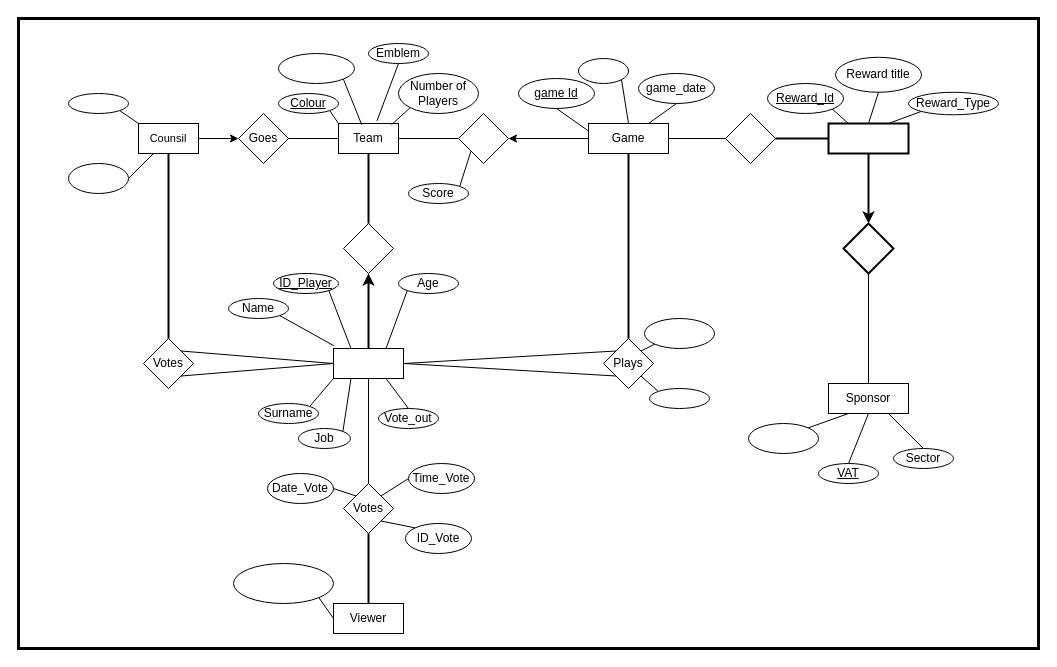
Image size: 1057x667. Some labels were removed from this diagram. Each missing label, with the box of its shape:
counsil date: (68, 162, 128, 194)
counsil id: (68, 92, 128, 114)
Gives: (724, 112, 776, 164)
Has: (342, 222, 394, 274)
lap number: (644, 318, 714, 348)
Offers: (842, 222, 894, 274)
Phone_number: (232, 562, 334, 604)
Player: (332, 348, 404, 378)
Reward: (827, 122, 909, 154)
Sponsor Name: (748, 422, 818, 454)
Team Name: (278, 52, 354, 84)
Type: (578, 58, 628, 84)
Winner: (648, 388, 710, 408)
Wins: (458, 112, 508, 164)
